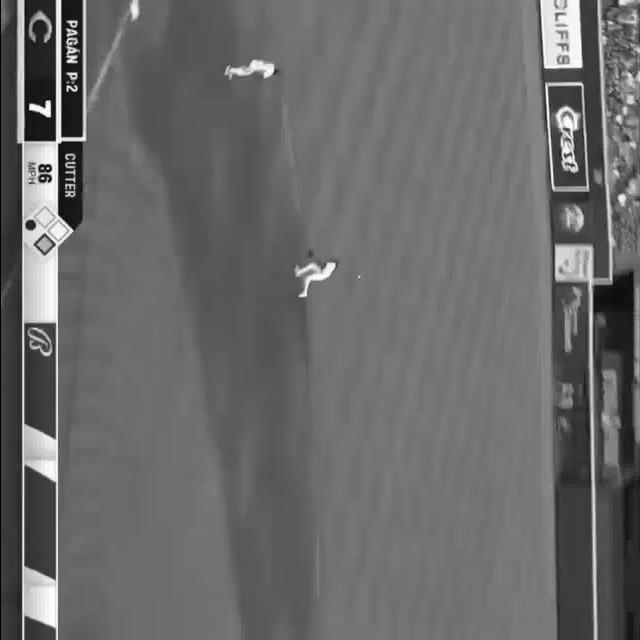base: (126, 0, 144, 23)
baseball: (357, 274, 363, 280)
baseball_glove: (304, 246, 314, 261)
shoe: (222, 64, 236, 78), (292, 292, 310, 302), (291, 265, 299, 277)
